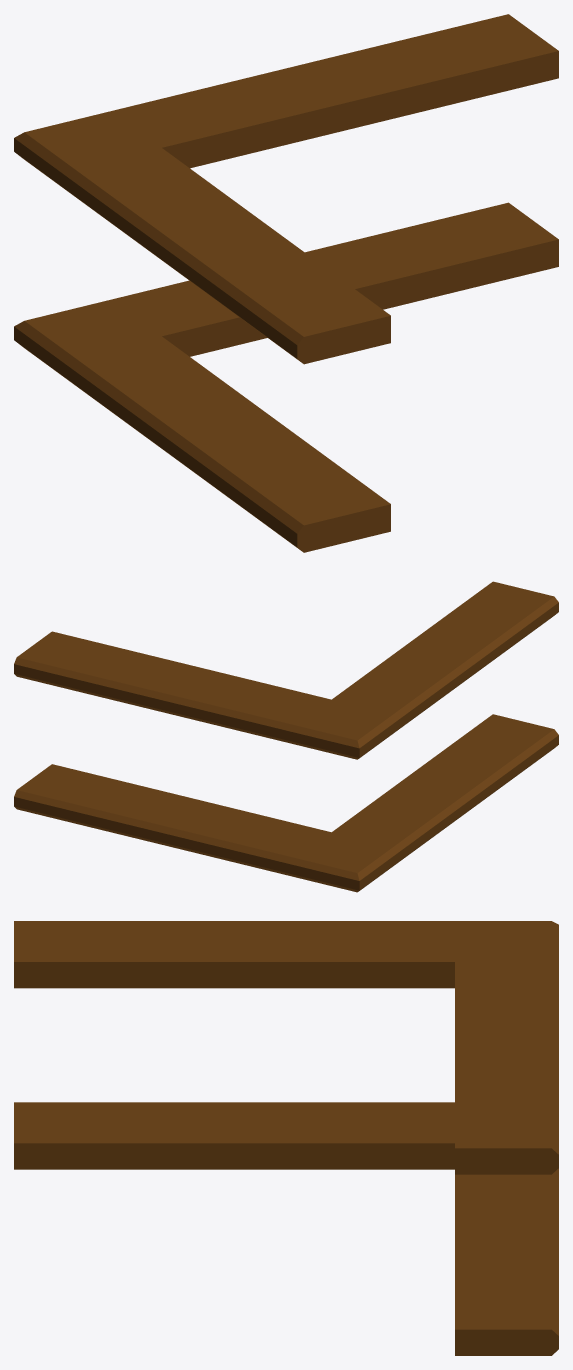
Rendered from SM_Shelves_Corner_Outer_v2.fbx.
3 renders of one model, top to bottom at view 1: azimuth 30°, elevation 25°; view 2: azimuth 150°, elevation 25°; view 3: azimuth 270°, elevation 25°, orthographic. The views are drawn at different scales.
Visible parts, largest first — view 1: SM_Shelves_Corner_Outer_v2; view 2: SM_Shelves_Corner_Outer_v2; view 3: SM_Shelves_Corner_Outer_v2.
Boxes of the visible parts, <box> form: SM_Shelves_Corner_Outer_v2: <box>14,14,558,552</box>; SM_Shelves_Corner_Outer_v2: <box>14,581,558,892</box>; SM_Shelves_Corner_Outer_v2: <box>14,921,558,1355</box>.
Size of the model in its own units: 124 by 51.95 by 124.
